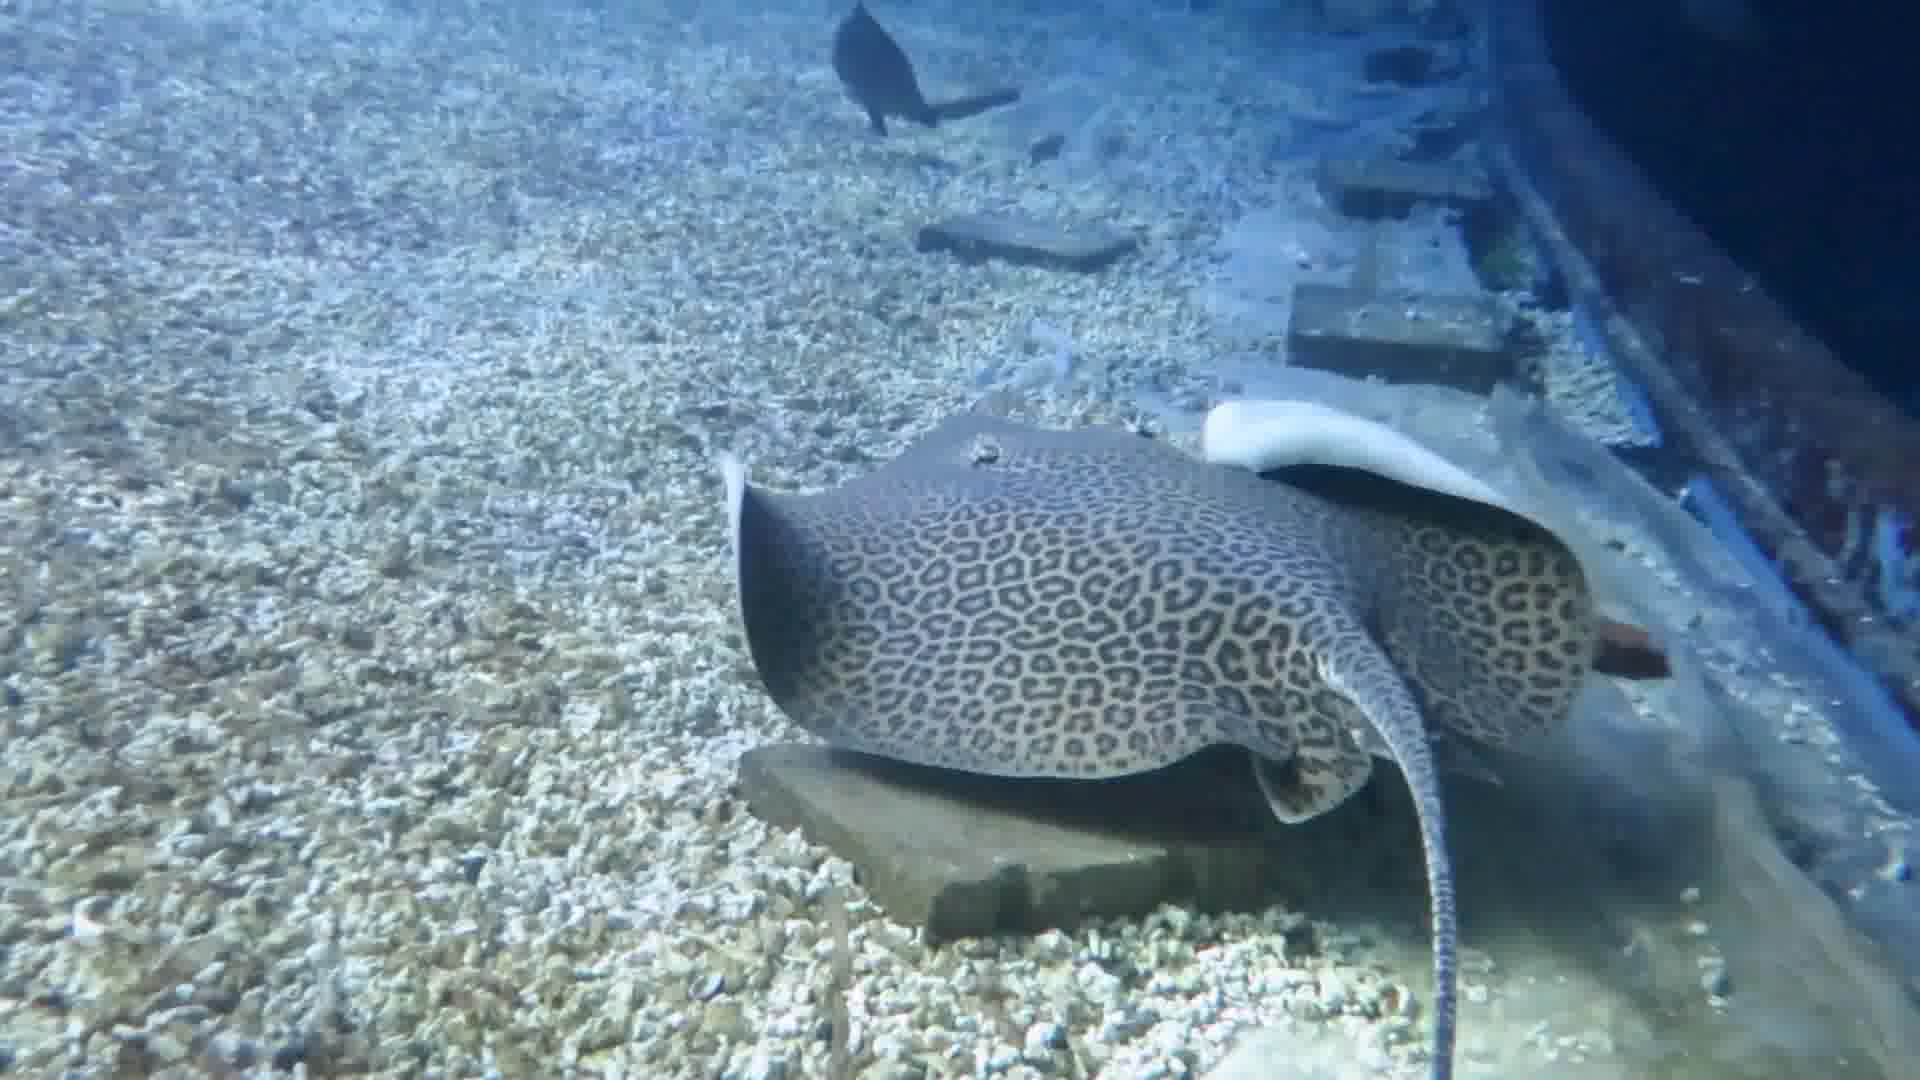Himantura uarnak: (617, 375, 1768, 1077)
